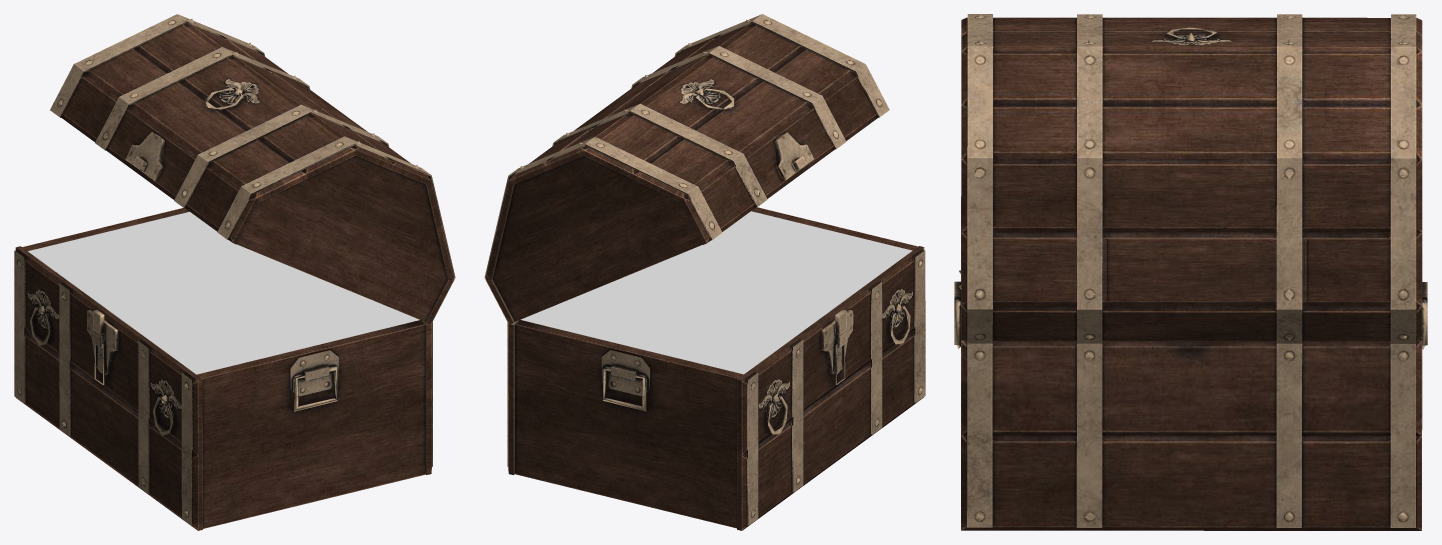
Rendered from treasure-chest-low.glb.
3 renders of one model, left to right at view 1: azimuth 30°, elevation 25°; view 2: azimuth 150°, elevation 25°; view 3: azimuth 270°, elevation 25°, orthographic. The views are drawn at different scales.
Visible parts, largest first — view 1: chest_body, chest_inside; view 2: chest_body, chest_inside; view 3: chest_body.
Part boxes in pixels (<box>): chest_body: <box>14,14,455,530</box>; chest_inside: <box>28,212,419,374</box>; chest_body: <box>484,14,925,530</box>; chest_inside: <box>521,211,911,374</box>; chest_body: <box>954,14,1427,530</box>.
Bounding box in the file's own units: 2.31 × 2.82 × 2.76.
Materials: 2 (1 with a texture image).
